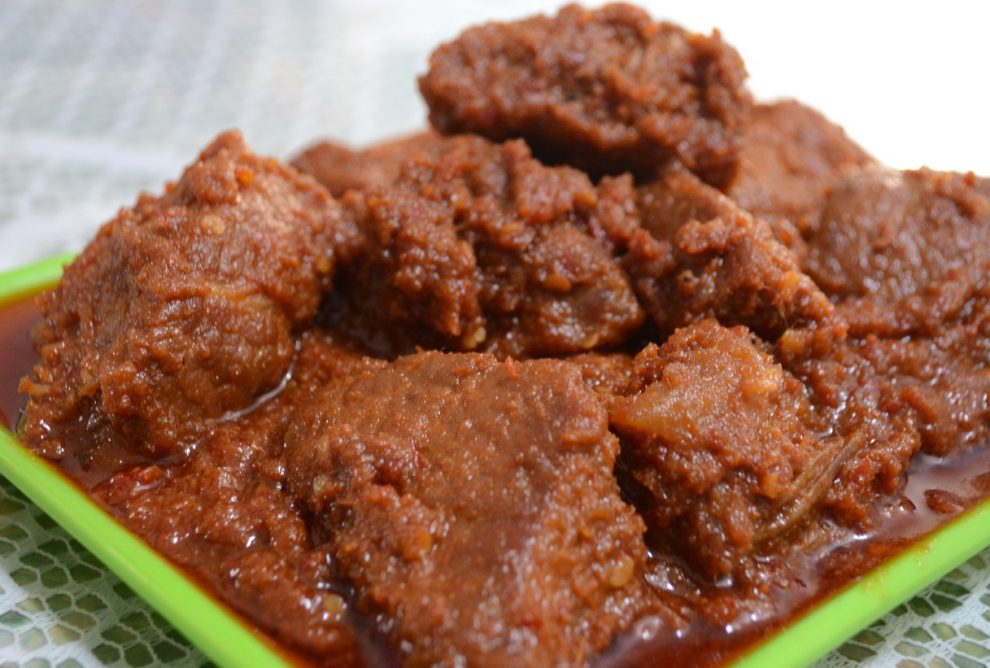rendang: (23, 6, 990, 633)
